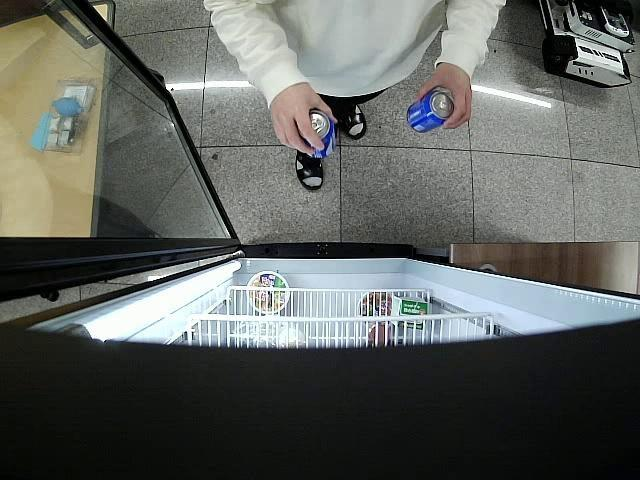13_pocariSweat: (408, 92, 453, 137), (299, 112, 336, 158)
